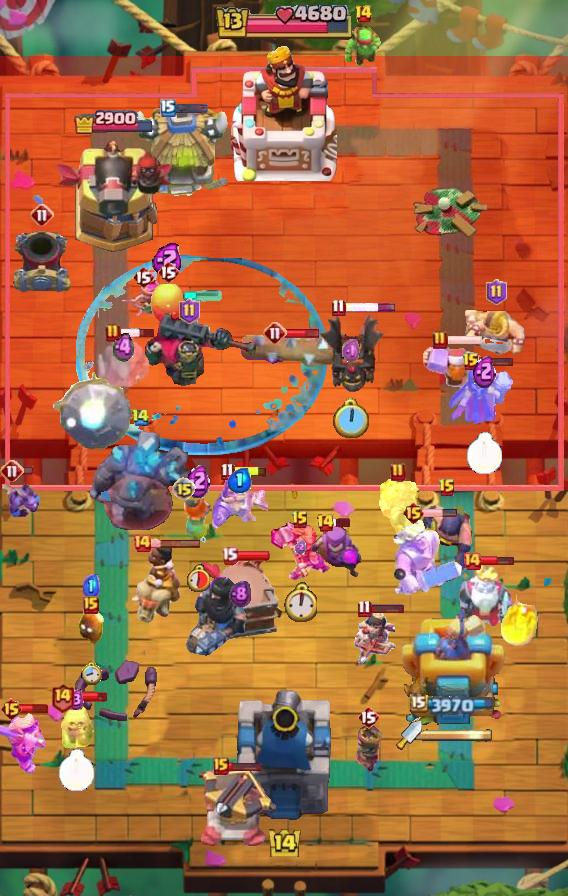archer: (117, 279, 169, 319)
bar: (344, 302, 397, 313), (150, 538, 202, 549), (232, 465, 268, 478), (446, 334, 483, 346), (119, 327, 156, 339), (72, 691, 108, 703), (369, 602, 405, 614), (235, 550, 271, 562), (479, 555, 515, 566), (173, 103, 209, 114), (228, 761, 263, 772), (479, 356, 514, 367), (285, 328, 320, 339), (15, 703, 49, 714), (422, 508, 458, 518), (332, 517, 352, 528), (15, 465, 34, 476)
bar-level: (50, 682, 75, 713), (172, 477, 196, 501), (0, 459, 24, 483), (263, 321, 287, 345), (30, 203, 54, 227), (0, 697, 23, 721), (402, 501, 425, 525), (179, 298, 200, 324), (486, 279, 507, 305), (357, 705, 379, 729), (132, 265, 154, 289), (157, 260, 179, 284), (462, 551, 482, 571), (132, 533, 152, 553), (316, 513, 335, 533), (354, 4, 373, 24), (131, 408, 150, 427), (291, 510, 309, 530), (438, 478, 456, 498), (462, 352, 480, 372), (221, 546, 238, 565), (390, 462, 406, 482), (432, 330, 448, 350), (105, 323, 121, 343), (213, 757, 229, 775), (83, 596, 99, 614), (160, 99, 176, 117), (357, 599, 372, 618), (220, 462, 235, 481), (331, 298, 346, 317)
barbarian-evolution: (0, 711, 46, 775)
cannoneer-tower: (53, 138, 175, 256)
clock: (333, 398, 371, 441), (58, 749, 95, 792), (466, 432, 503, 475), (283, 582, 317, 622), (186, 564, 210, 592), (80, 660, 102, 685)
dagger-duchess-tower: (401, 601, 505, 731)
dagger-duchess-tower-bar: (422, 728, 494, 742)
elite-barbarian: (463, 310, 529, 360)
elixir: (152, 241, 184, 276), (186, 462, 210, 498), (473, 353, 496, 388), (113, 332, 134, 364), (229, 580, 251, 608), (228, 468, 252, 493), (342, 338, 362, 364), (83, 574, 100, 597), (68, 689, 84, 711), (295, 540, 306, 554)
executioner: (420, 503, 474, 573)
fire-spirit: (77, 608, 105, 646)
heal-spirit: (57, 701, 95, 749)
king-tower: (231, 43, 337, 181), (232, 686, 336, 826)
king-tower-bar: (213, 5, 355, 43)
knight-evolution: (212, 476, 268, 532)
little-prince: (352, 724, 384, 774)
lumberjack: (420, 339, 488, 395)
minion: (0, 476, 40, 524)
mortar: (11, 228, 73, 296)
mother-witch: (308, 524, 364, 582)
phoenix-egg: (148, 282, 188, 326)
princess: (354, 610, 398, 670)
ram-rider: (125, 539, 181, 627)
royal-ghost: (94, 330, 152, 398), (459, 563, 515, 629), (377, 476, 419, 534)
spear-goblin: (343, 24, 383, 68)
the-log: (240, 330, 343, 368)
tower-bar: (73, 108, 155, 134), (410, 693, 497, 715)
valkyrie: (179, 494, 217, 546)
valkyrie-evolution: (268, 520, 332, 582)
witch: (446, 365, 522, 427)
